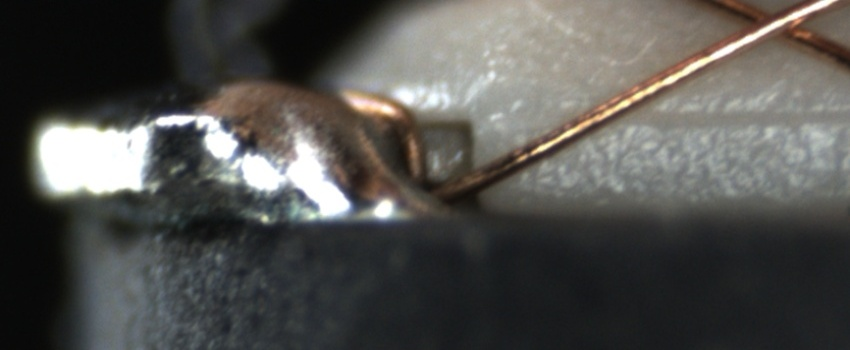CL: (715, 1, 830, 48)
DL: (572, 85, 850, 149)
TE: (332, 86, 436, 193)
